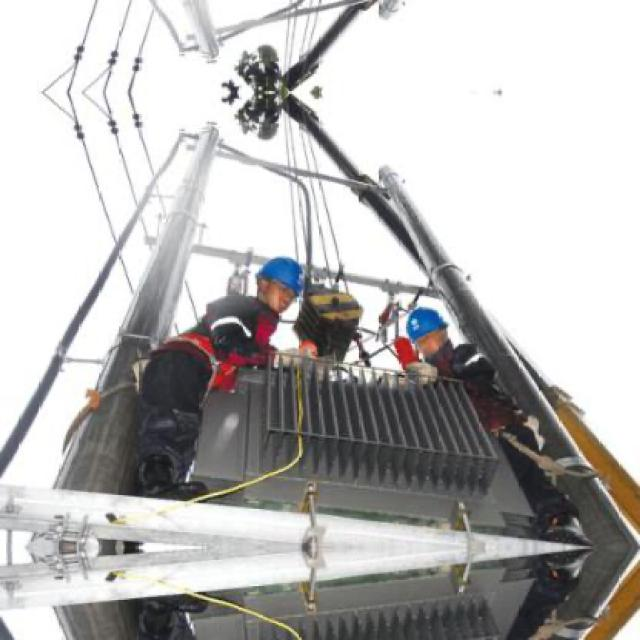con casco: (254, 248, 318, 290), (391, 297, 451, 341)
